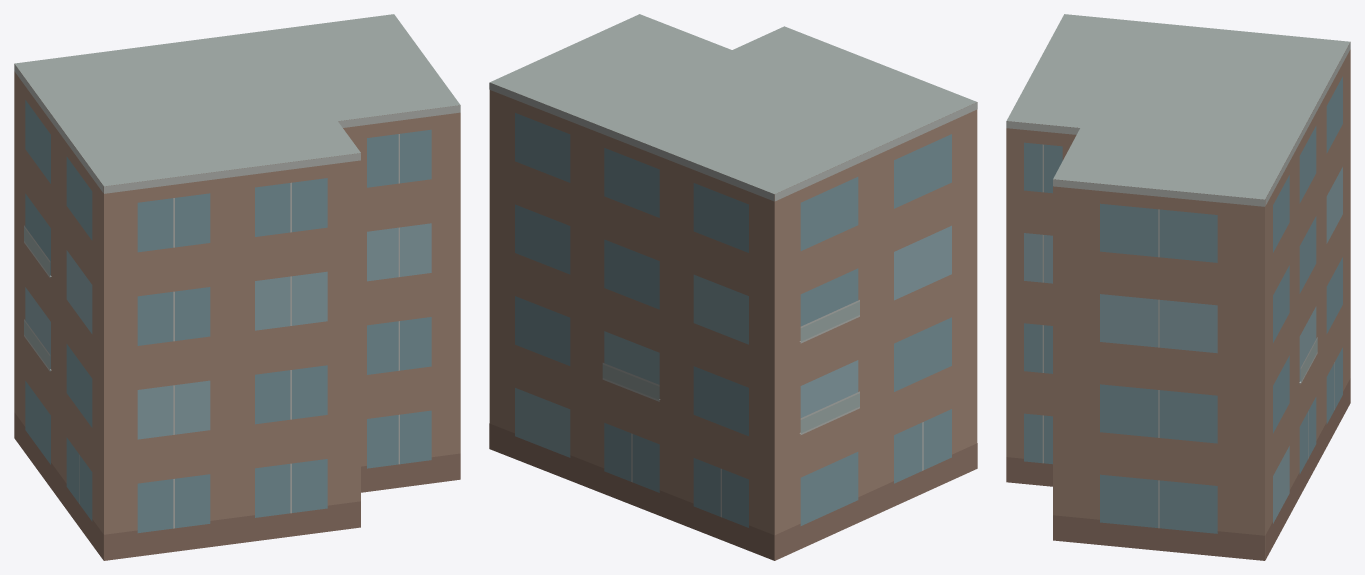
The model's file is residential-85bd4a69-020f-40f9-b607-fee39185ca61.glb.
3 views of the same model, side by side, from view 1: azimuth 30°, elevation 25°; view 2: azimuth 150°, elevation 25°; view 3: azimuth 270°, elevation 25° (orthographic). The views are drawn at different scales.
Visible parts, largest first — view 1: residential-85bd4a69-020f-40f9-b607-fee39185ca61.tmp; view 2: residential-85bd4a69-020f-40f9-b607-fee39185ca61.tmp; view 3: residential-85bd4a69-020f-40f9-b607-fee39185ca61.tmp.
Boxes of the visible parts, left/top/right/bottom form: residential-85bd4a69-020f-40f9-b607-fee39185ca61.tmp: left=14, top=14, right=460, bottom=560; residential-85bd4a69-020f-40f9-b607-fee39185ca61.tmp: left=489, top=14, right=977, bottom=560; residential-85bd4a69-020f-40f9-b607-fee39185ca61.tmp: left=1006, top=14, right=1350, bottom=560.
Size of the model in its own units: 13.45 by 12.2 by 10.54.
